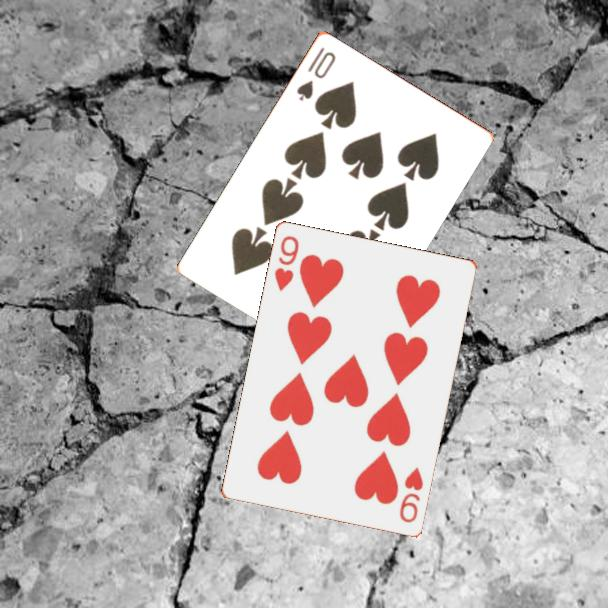h09: (271, 232, 302, 295), (396, 464, 426, 526)
s10: (293, 43, 338, 104)
